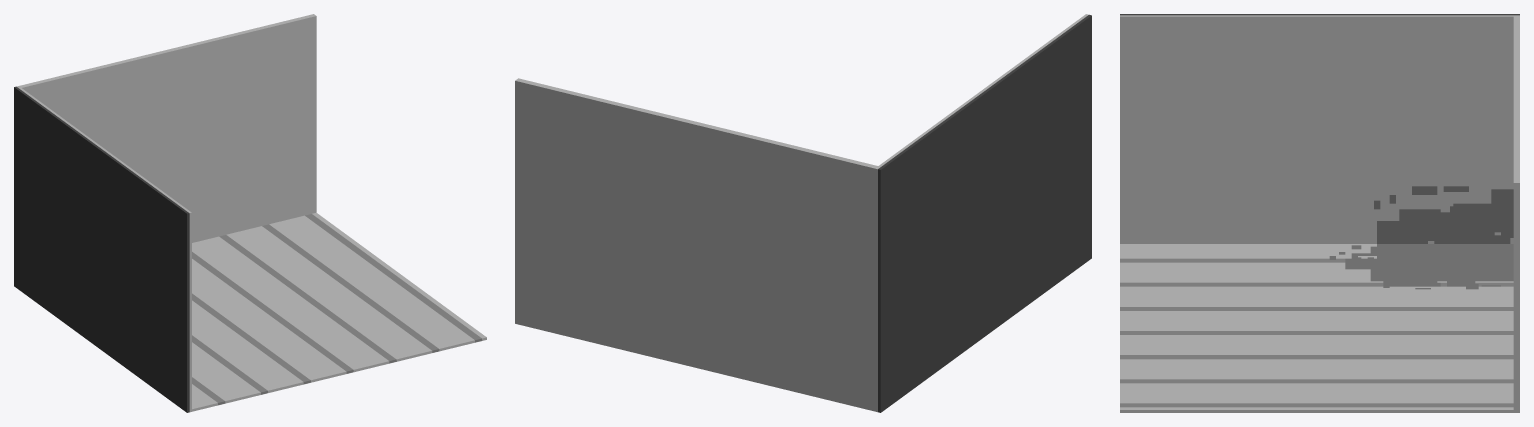
The model's file is 4x2 first (1)-10.obj.
3 renders of one model, left to right at view 1: azimuth 30°, elevation 25°; view 2: azimuth 150°, elevation 25°; view 3: azimuth 270°, elevation 25°, orthographic. The views are drawn at different scales.
Parts seen in each view (by area): view 1: 4x2 first (1)-2; view 2: 4x2 first (1)-2; view 3: 4x2 first (1)-2.
Boxes of the visible parts, x1,y1,x2,y2 form: 4x2 first (1)-2: (14, 14, 486, 412); 4x2 first (1)-2: (515, 14, 1091, 412); 4x2 first (1)-2: (1120, 14, 1519, 412).
Size of the model in its own units: 126 by 80 by 126.
1 material, 1 textured.
